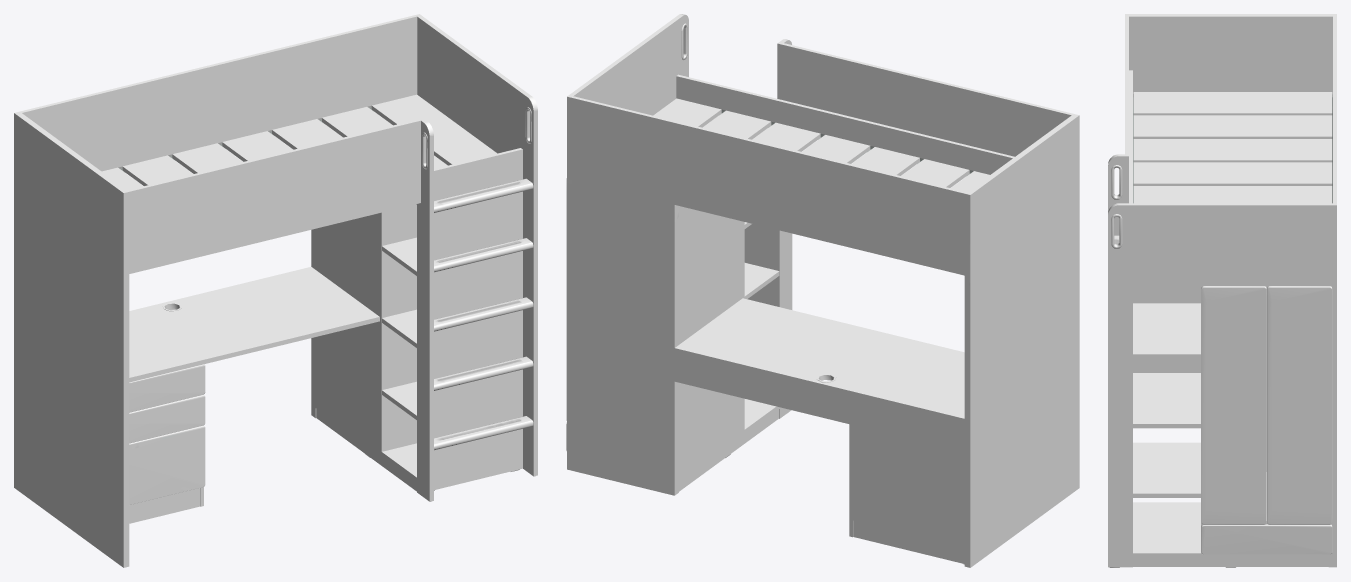
File: smastad_ozko_na_antresoli_99428866.glb
3 renders of one model, left to right at view 1: azimuth 30°, elevation 25°; view 2: azimuth 150°, elevation 25°; view 3: azimuth 270°, elevation 25°, orthographic. The views are drawn at different scales.
Visible parts, largest first — view 1: smastad_ozko_na_antresoli_99428866; view 2: smastad_ozko_na_antresoli_99428866; view 3: smastad_ozko_na_antresoli_99428866.
Boxes of the visible parts, <box> form: smastad_ozko_na_antresoli_99428866: <box>14,14,537,567</box>; smastad_ozko_na_antresoli_99428866: <box>566,14,1079,567</box>; smastad_ozko_na_antresoli_99428866: <box>1108,14,1336,567</box>.
Size of the model in its own units: 2.08 by 1.83 by 1.04.
1 material, 1 textured.
